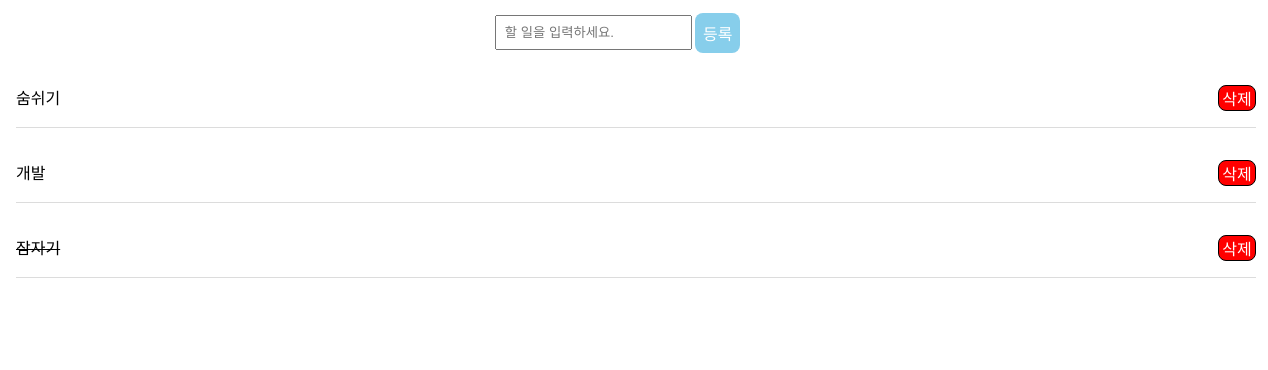
<TodoApp /> › create a new todo
The width and height of the screenshot is (1268, 370).
Type "새로운일 추가하기" into the field with placeholder "할 일을 입력하세요." at (593, 33), box x1=495 y1=15 x2=692 y2=50
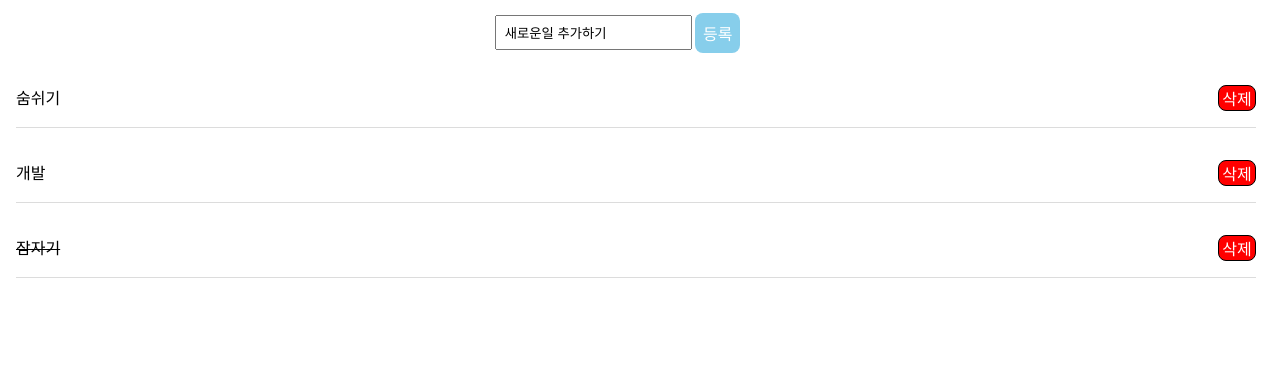
Click the button "등록" at (718, 33), box x1=695 y1=13 x2=740 y2=53
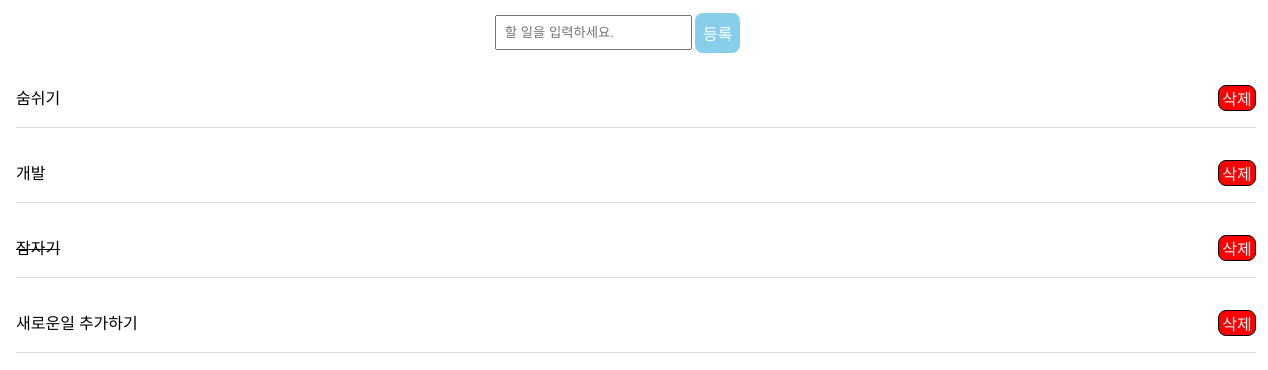
Check: the text "새로운일 추가하기" is shown, box x1=16 y1=310 x2=138 y2=336
